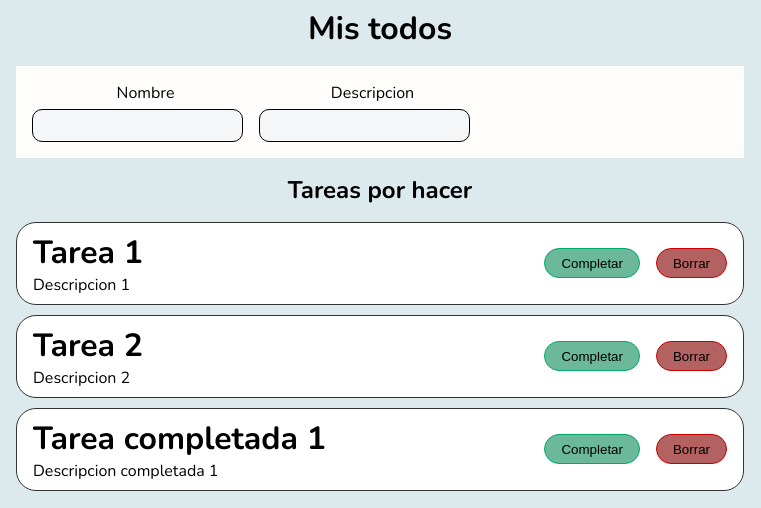
Test: it deletes a todo
Click the button with test id "delete-button" in the row of "Tarea 1": x=692, y=263 [656, 248, 727, 278]
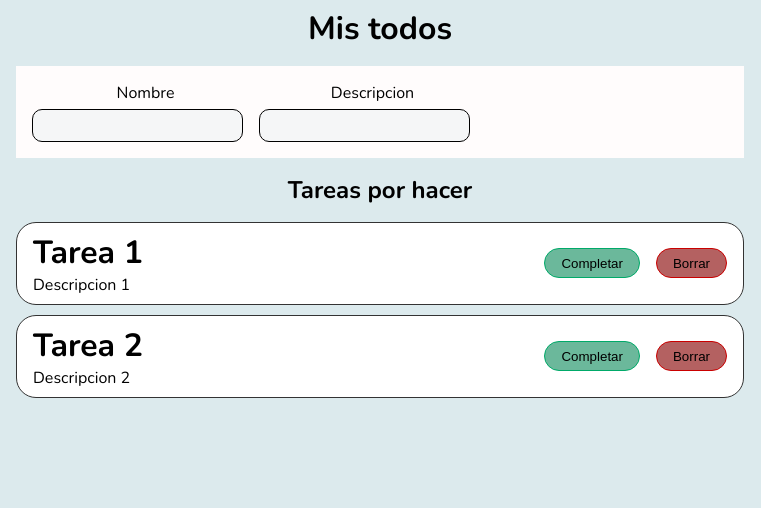
Expected: the number of elements with test id "single-todo" is 2, [16, 222, 744, 305]; [16, 315, 744, 398]
